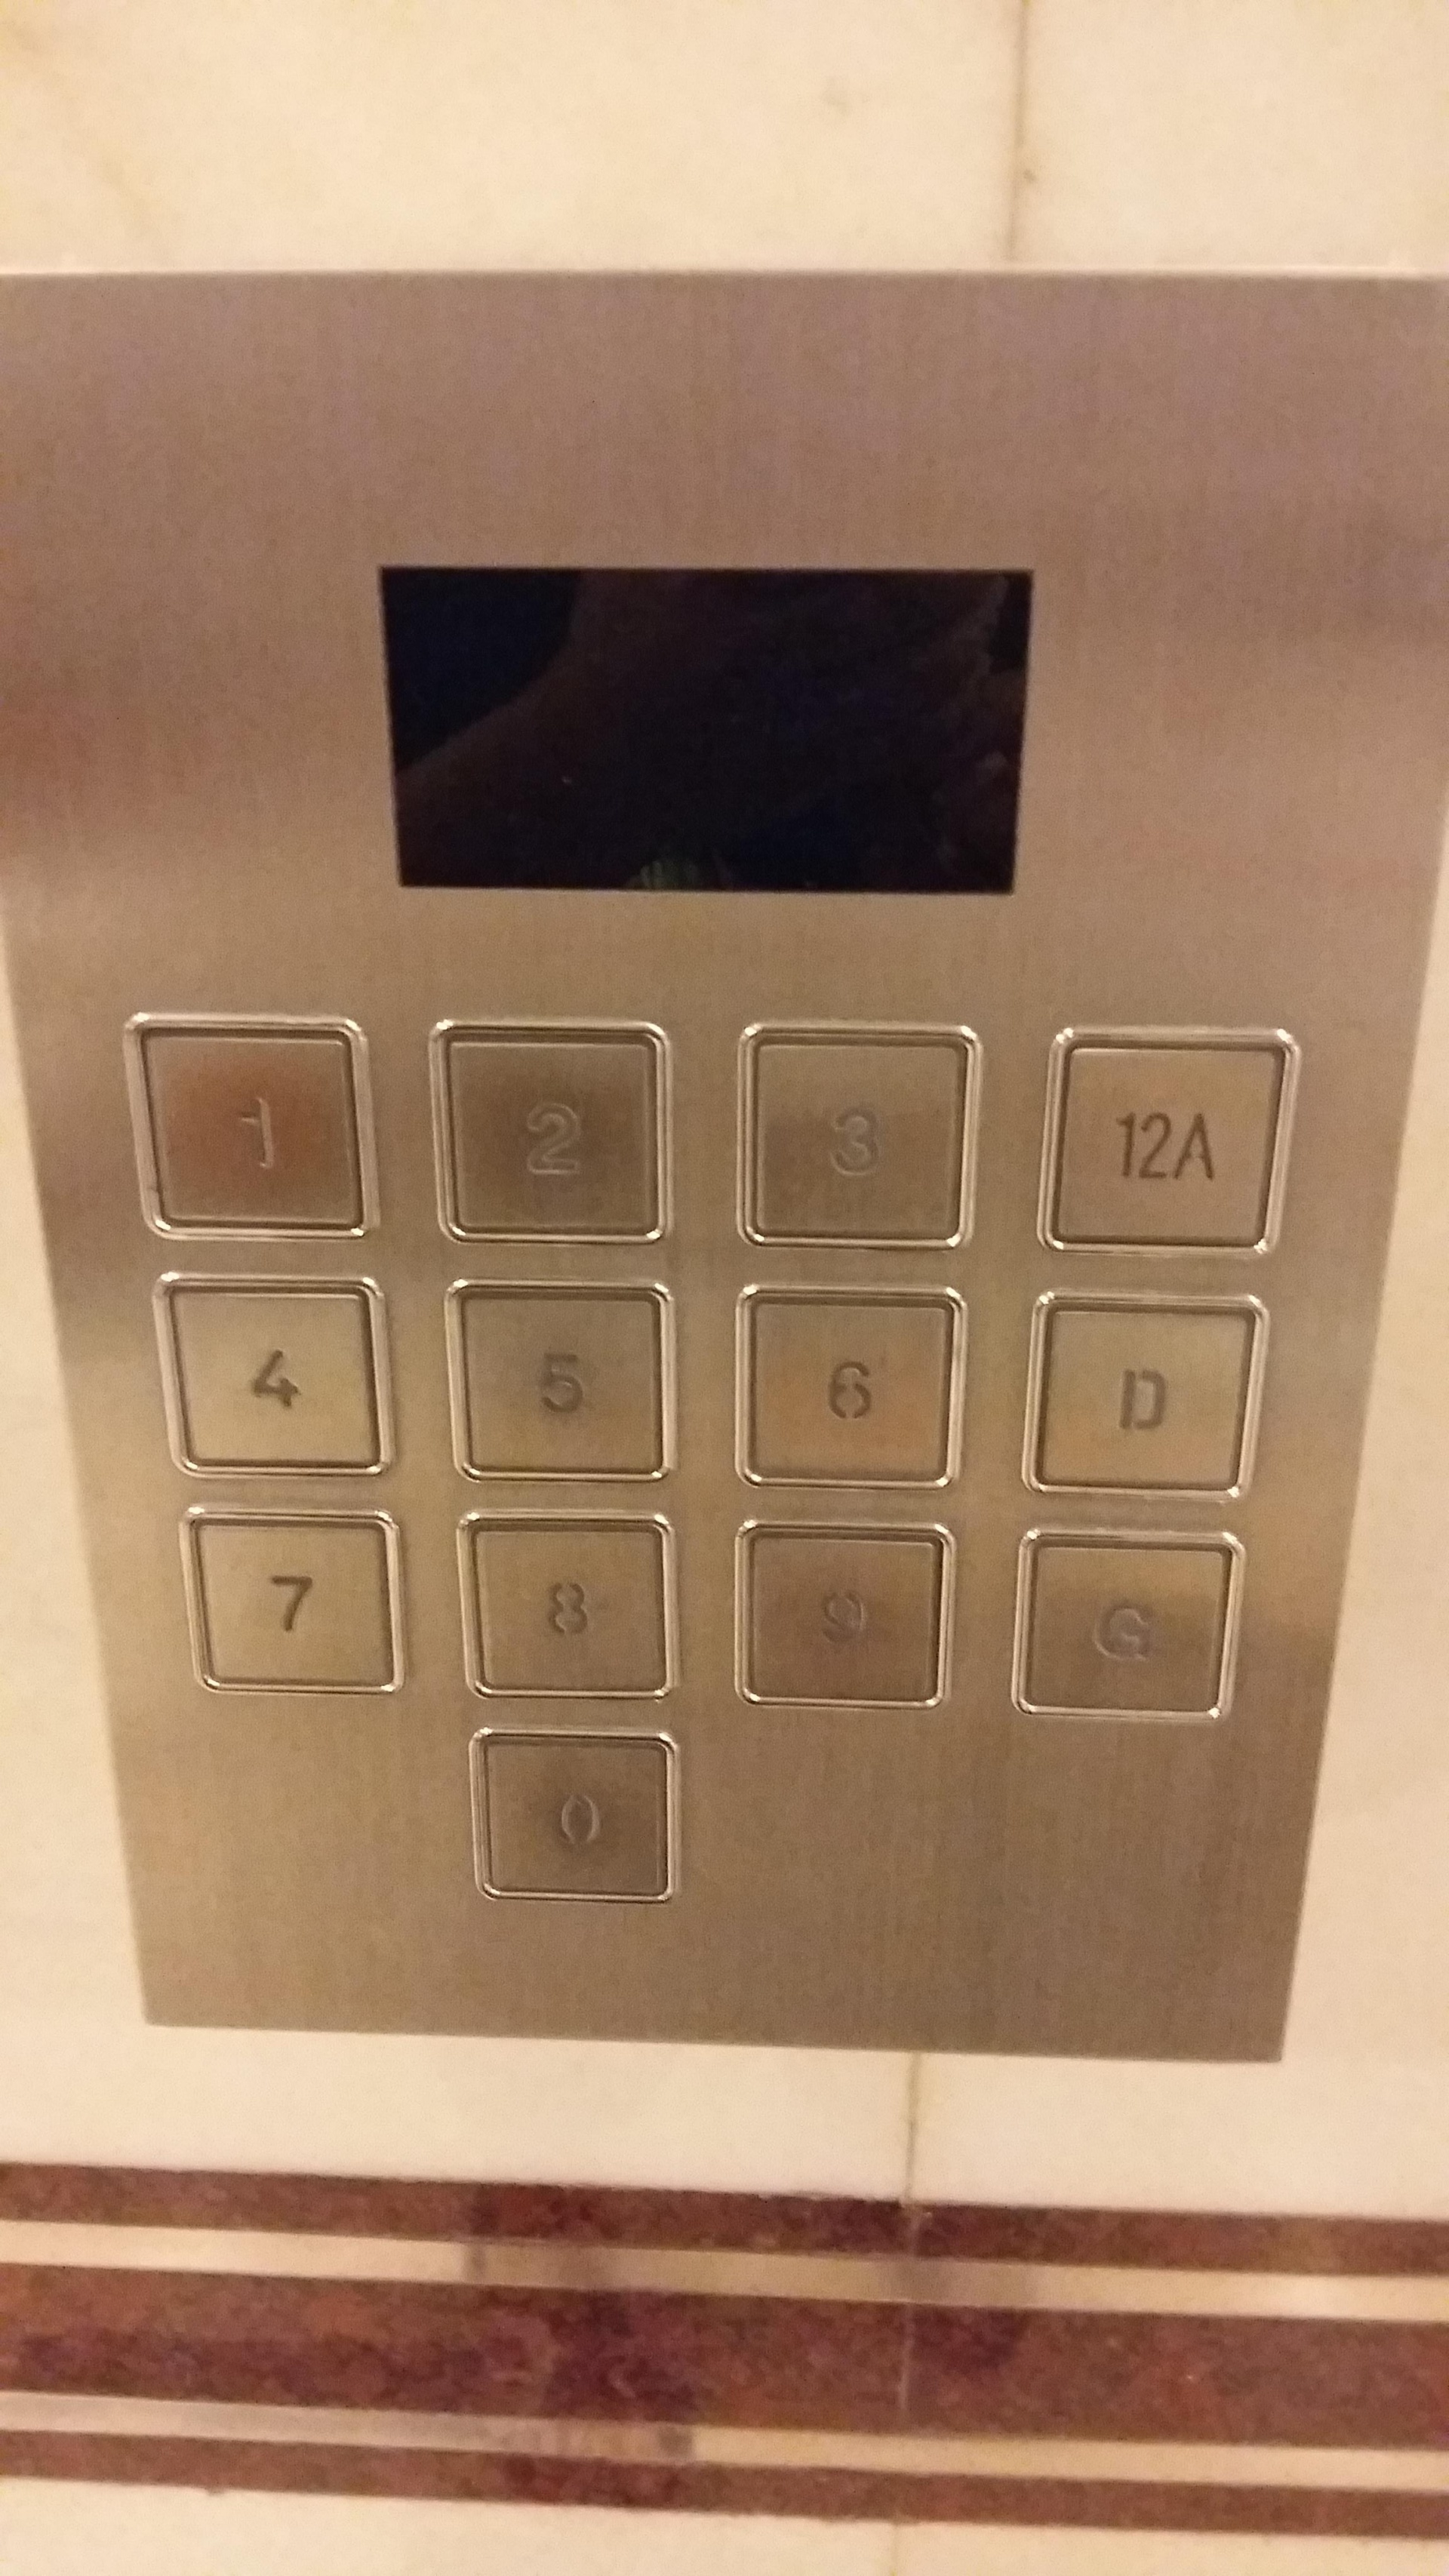0: (458, 1714, 694, 1918)
1: (113, 1003, 389, 1247)
12A: (1033, 1012, 1300, 1263)
2: (419, 1007, 678, 1253)
3: (727, 1008, 987, 1254)
4: (150, 1260, 395, 1490)
5: (441, 1267, 683, 1497)
6: (727, 1276, 971, 1497)
7: (175, 1495, 416, 1707)
8: (446, 1500, 692, 1713)
9: (720, 1507, 966, 1720)
D: (1008, 1281, 1277, 1507)
G: (1003, 1520, 1249, 1732)
led: (366, 545, 1044, 911)
